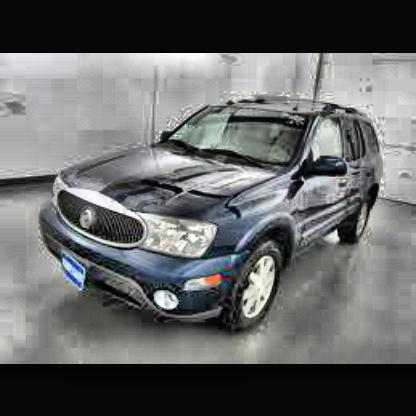Buick Rainier SUV 2007: (40, 95, 386, 335)
